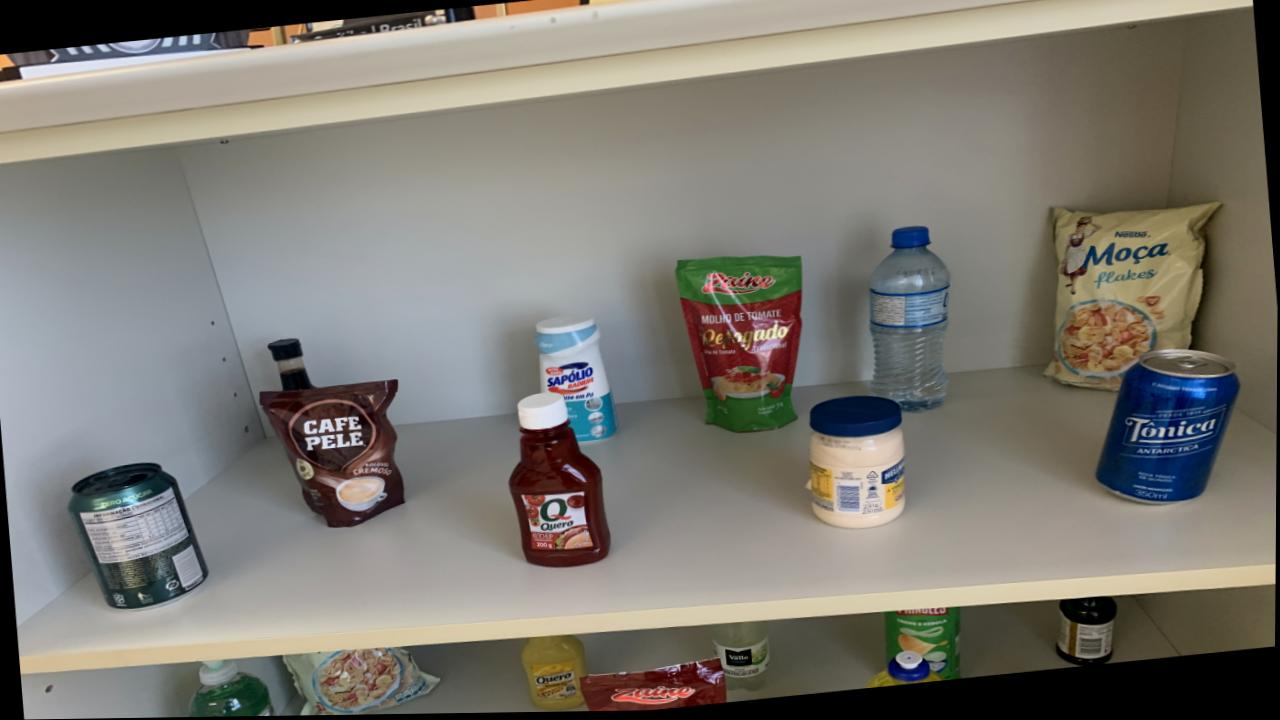Cleaner-Cleanup_Items: (535, 315, 619, 444)
Coffee-Pantry_Items: (260, 380, 404, 529)
Detergent-Cleanup_Items: (189, 660, 276, 718), (866, 653, 944, 691)
English_Sauce-Pantry_Items: (1056, 599, 1119, 669), (268, 339, 314, 393)
Flakes-Snacks: (1044, 205, 1222, 394), (284, 648, 441, 716)
Guarana_Can-Drinks: (68, 463, 209, 611)
Ketchup-Pantry_Items: (510, 393, 611, 569)
Mayonnaise-Pantry_Items: (809, 398, 906, 532)
Mustard-Pantry_Items: (522, 636, 589, 711)
Pringles-Snacks: (884, 610, 962, 683)
Soda-Drinks: (711, 623, 771, 693)
Tomato_Sauce-Pantry_Items: (676, 257, 803, 434), (582, 660, 727, 713)
Tonic-Drinks: (1097, 352, 1239, 508)
Water_Bottle-Drinks: (869, 229, 951, 415)
